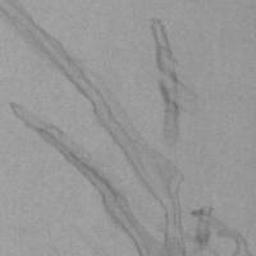Water spot: (0, 0, 255, 256), (148, 14, 209, 151), (91, 244, 114, 256)
